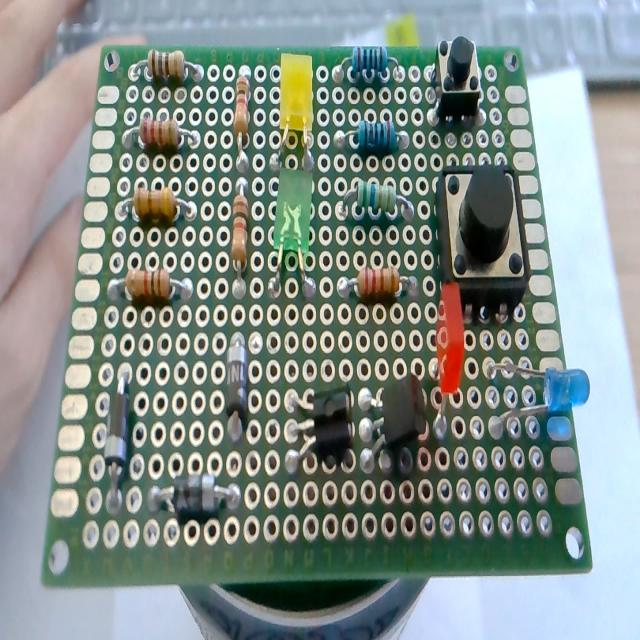diode: (215, 326, 261, 433), (147, 469, 249, 516), (103, 358, 127, 500)
led: (484, 352, 598, 432), (269, 167, 316, 304), (434, 281, 466, 438), (276, 50, 317, 167)
resistor: (333, 117, 415, 162), (332, 42, 403, 90), (128, 49, 206, 90), (336, 260, 418, 298), (117, 190, 203, 225), (336, 185, 421, 220), (229, 181, 253, 303), (228, 72, 256, 173), (120, 119, 202, 153), (110, 274, 192, 303)
switch: (432, 153, 528, 318), (430, 36, 486, 122)
transistor: (284, 378, 356, 478), (360, 372, 428, 469)
